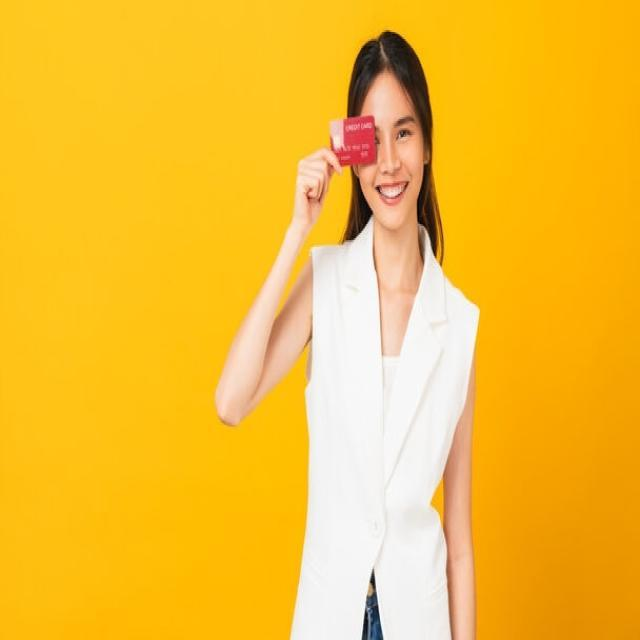payment_card: (328, 114, 376, 166)
